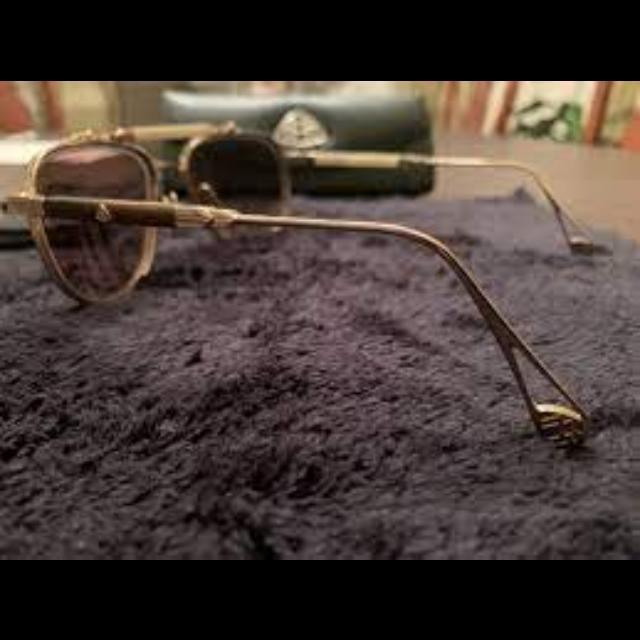glasses: (1, 122, 604, 444)
